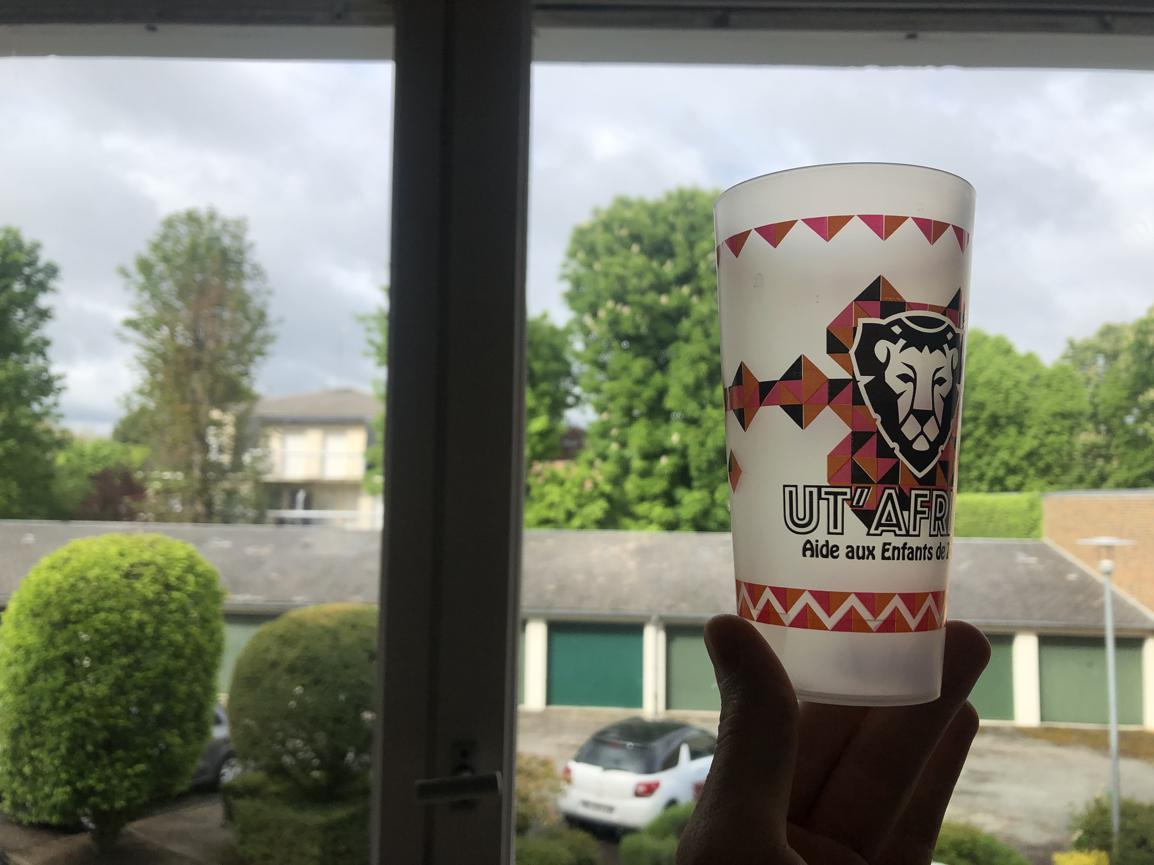ecocup: (712, 157, 980, 710)
